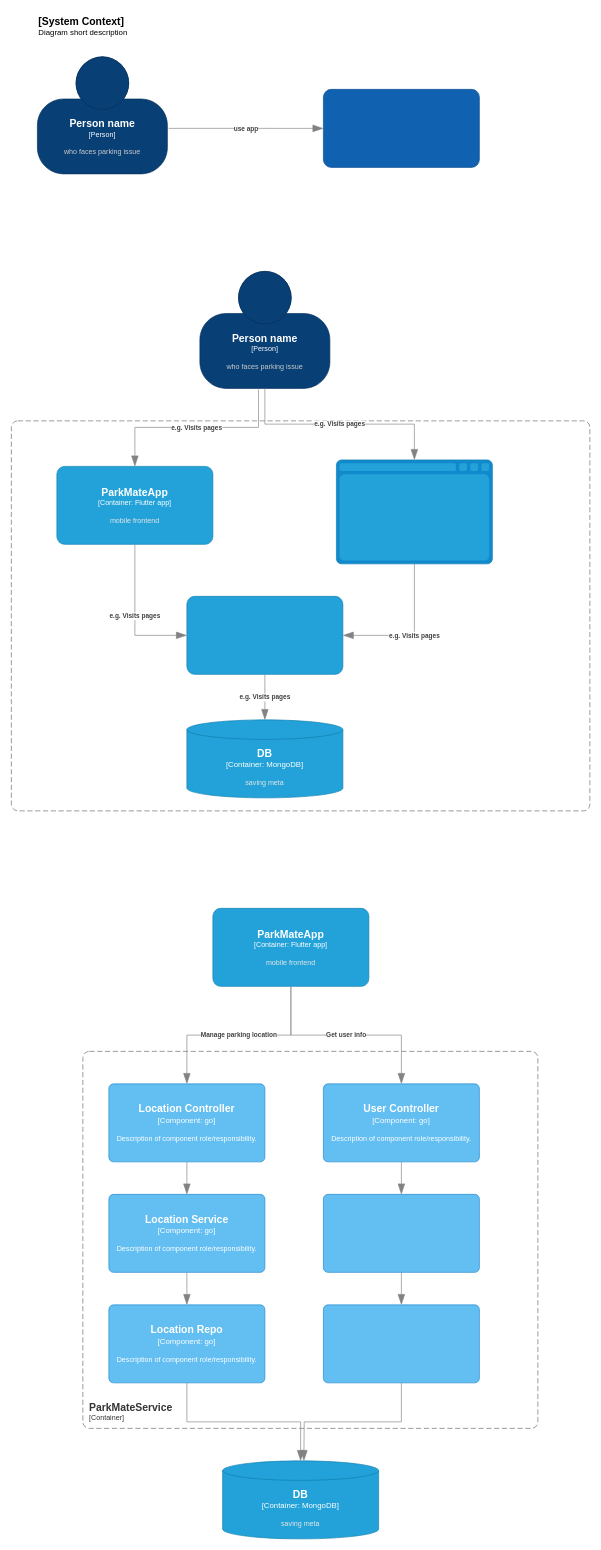
Image size: 601x1550. Some labels were removed from this diagram. Each missing label, with the box of its shape:
ParkMate [Software System]: (11, 420, 590, 811)
ParkMate [Software System] Park with Ease, Find with Breeze: (323, 89, 479, 167)
ParkMateGui [Container: Nextjs web] webpage frontend: (336, 459, 492, 564)
ParkMateService [Container: go server] backend: (186, 596, 343, 674)
User Repo [Component: go] Description of component role/responsibility.: (323, 1304, 479, 1383)
User Service [Component: go] Description of component role/responsibility.: (323, 1194, 479, 1272)
